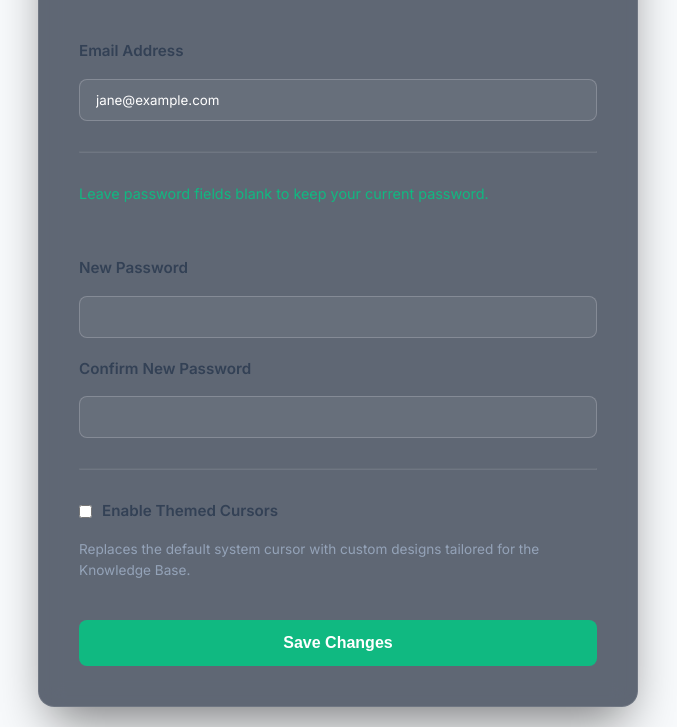
Test: ProfileSettings – custom cursor toggle › restores correct cursor state after toggling on then off
(page scrolled)
Click the checkbox.
click(86, 512)  # box [79,505,92,518]
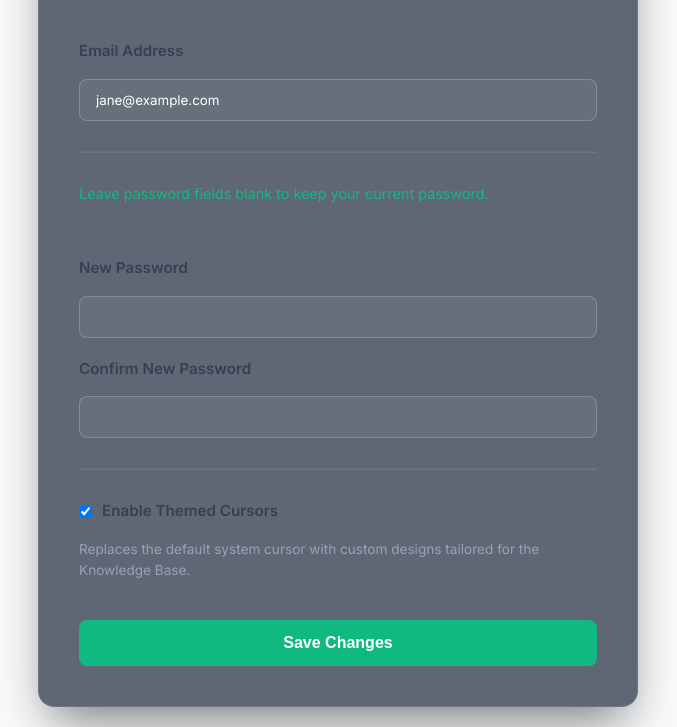
Click the checkbox.
click(86, 512)  # box [79,505,92,518]
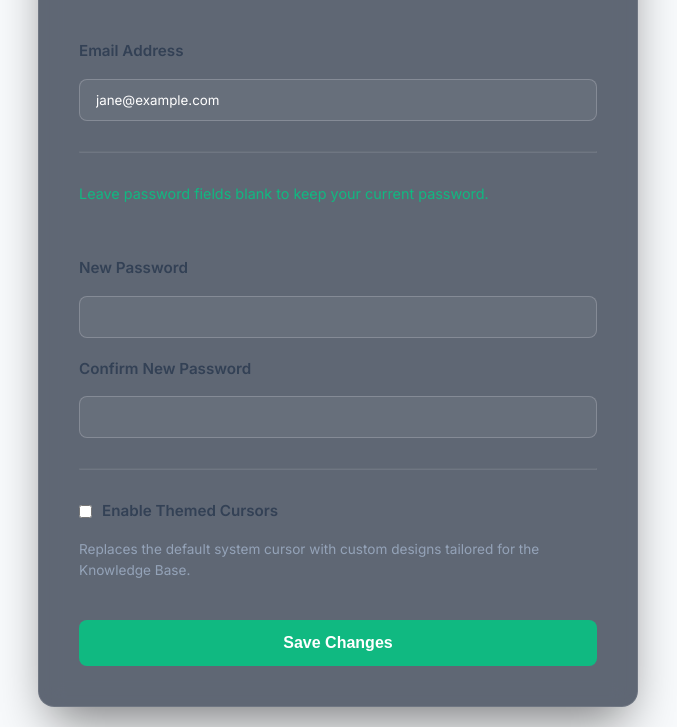
Check: the checkbox is not checked, box [79,505,92,518]
